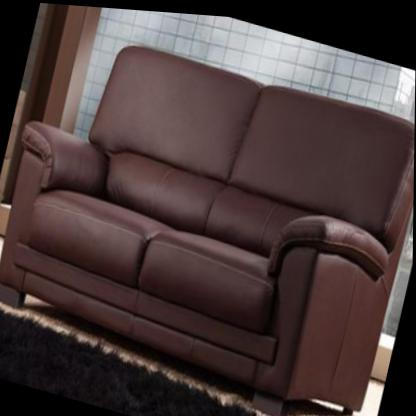Sofa: (0, 7, 416, 416)
